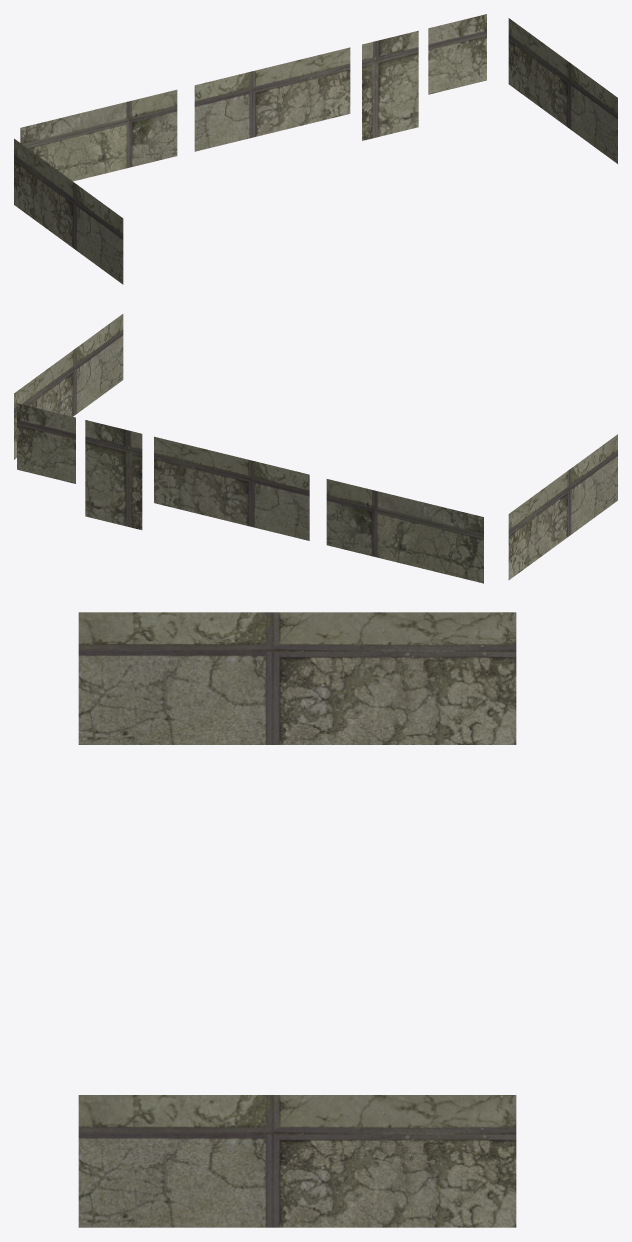
File: SM_Republic_02_00.008.fbx
3 views of the same model, one above another, from view 1: azimuth 30°, elevation 25°; view 2: azimuth 150°, elevation 25°; view 3: azimuth 270°, elevation 25° (orthographic). The views are drawn at different scales.
Parts seen in each view (by area): view 1: SM_Republic_02_00.008; view 2: SM_Republic_02_00.008; view 3: SM_Republic_02_00.008.
Boxes of the visible parts, box(x1,y1,x2,y2) form: SM_Republic_02_00.008: box(14, 14, 617, 284); SM_Republic_02_00.008: box(14, 314, 617, 583); SM_Republic_02_00.008: box(78, 612, 516, 1227).
Bounding box in the file's own units: 1755 × 327 × 729.
